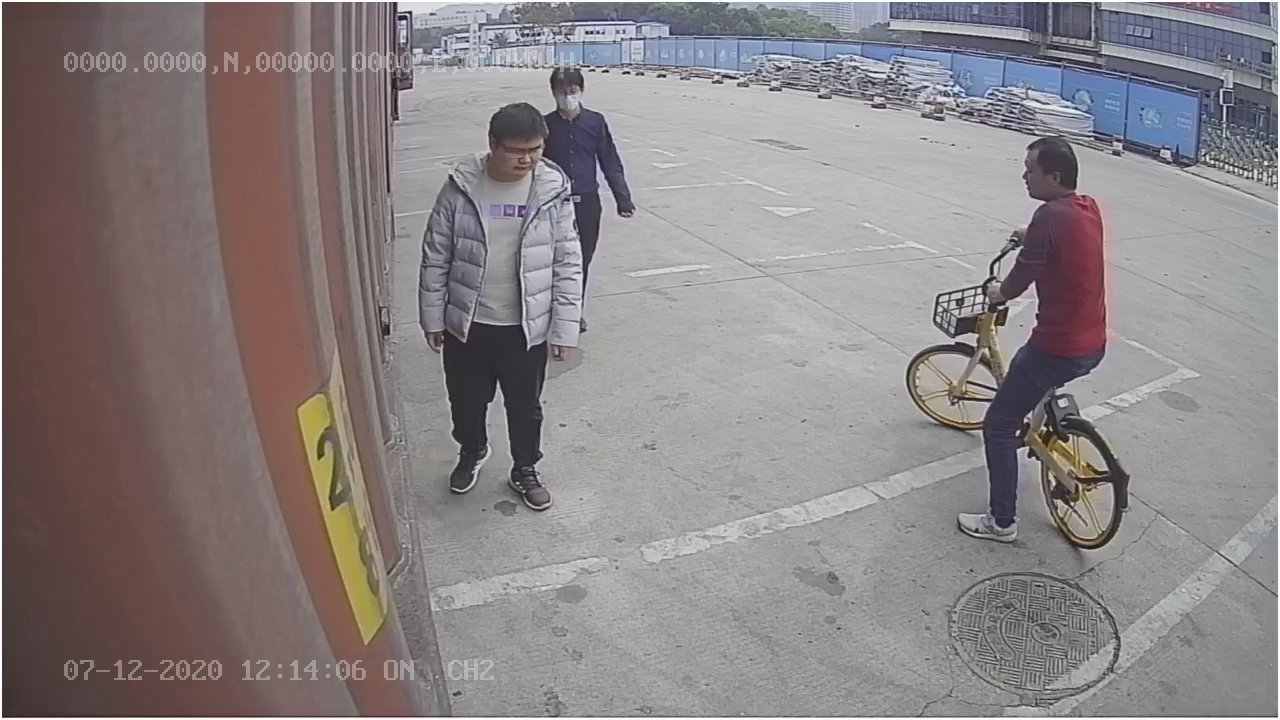person: (419, 104, 582, 513)
